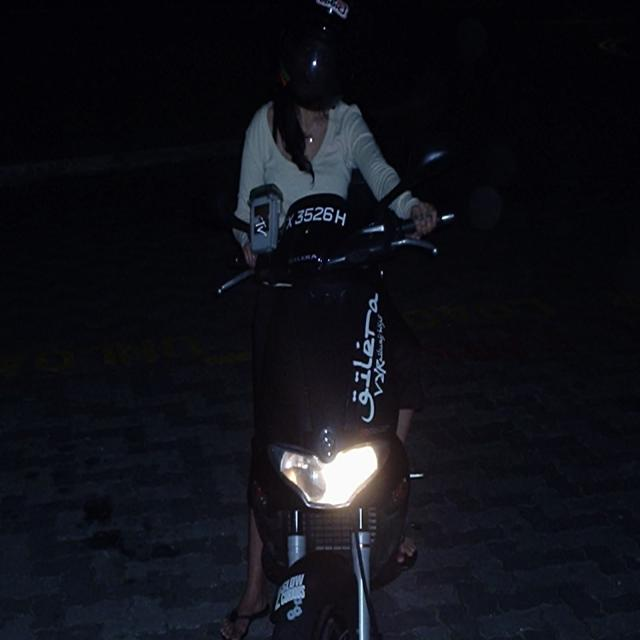Motorbike: (183, 247, 431, 640)
